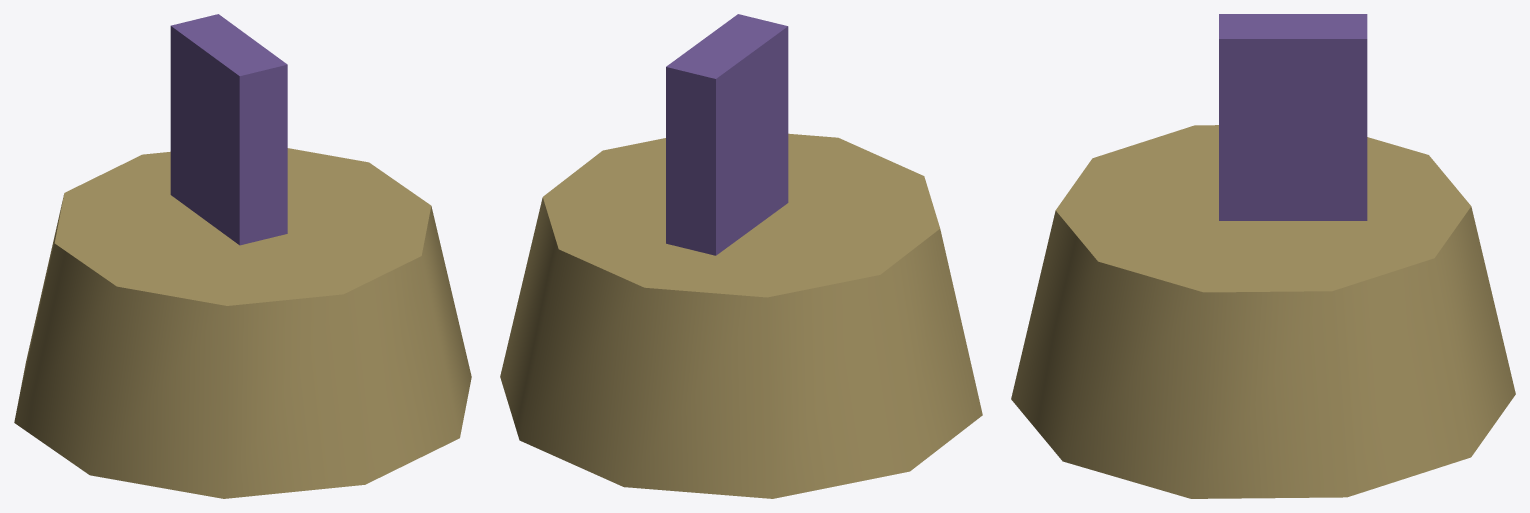
The model's file is head.glb.
3 renders of one model, left to right at view 1: azimuth 30°, elevation 25°; view 2: azimuth 150°, elevation 25°; view 3: azimuth 270°, elevation 25°, orthographic. The views are drawn at different scales.
Visible parts, largest first — view 1: helmet, crest; view 2: helmet, crest; view 3: helmet, crest.
Boxes of the visible parts, box(x1,y1,x2,y2) form: helmet: box(14, 148, 471, 498); crest: box(170, 14, 287, 245); helmet: box(500, 133, 982, 498); crest: box(666, 14, 788, 255); helmet: box(1011, 125, 1515, 498); crest: box(1219, 14, 1367, 220).
Bounding box in the file's own units: 0.6515 × 0.55 × 0.6798.
